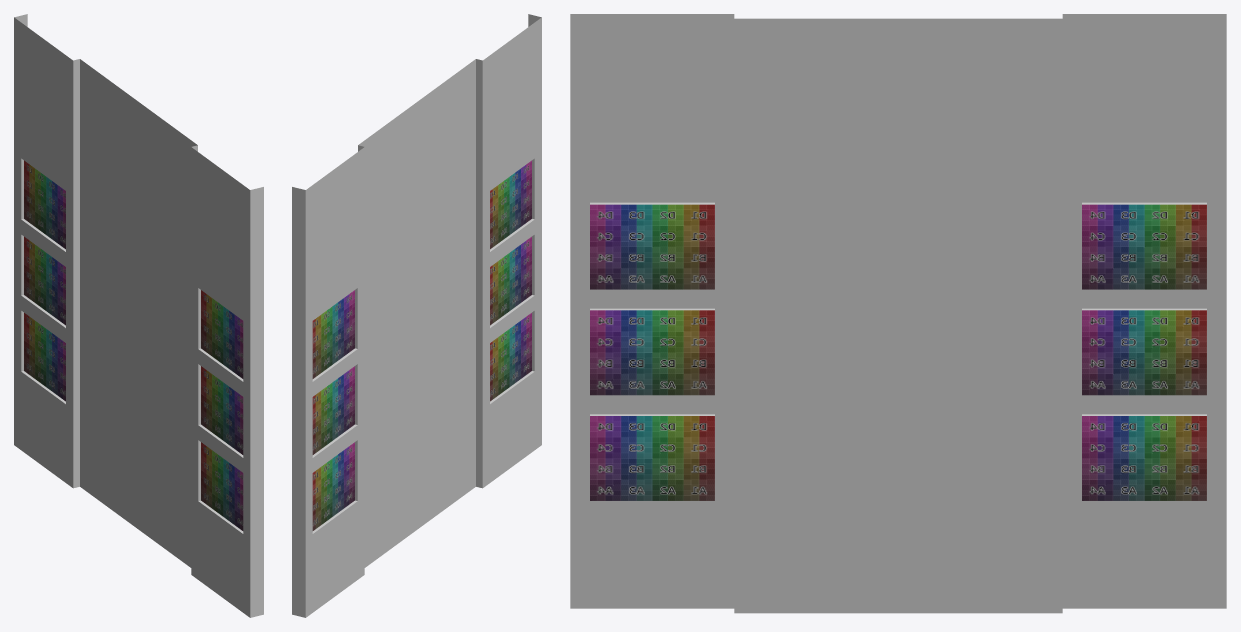
File: GalleryBoard.fbx
3 views of the same model, side by side, from view 1: azimuth 30°, elevation 25°; view 2: azimuth 150°, elevation 25°; view 3: azimuth 270°, elevation 25° (orthographic). The views are drawn at different scales.
Visible parts, largest first — view 1: GalleryEndBoard, photoBoard.reflection, photoBoard.mblur, photoBoard.refraction, photoBoard.limits, photoBoard.ambientocc, photoBoard.globalillum; view 2: GalleryEndBoard, photoBoard.ambientocc, photoBoard.globalillum, photoBoard.limits, photoBoard.refraction, photoBoard.reflection, photoBoard.mblur; view 3: GalleryEndBoard, photoBoard.refraction, photoBoard.reflection, photoBoard.limits, photoBoard.ambientocc, photoBoard.mblur, photoBoard.globalillum.
Part boxes in pixels (x1=…): GalleryEndBoard: x1=14, y1=14, x2=263, y2=617; photoBoard.reflection: x1=201, y1=366, x2=243, y2=454; photoBoard.mblur: x1=201, y1=442, x2=243, y2=530; photoBoard.refraction: x1=201, y1=290, x2=243, y2=378; photoBoard.limits: x1=24, y1=160, x2=65, y2=249; photoBoard.ambientocc: x1=24, y1=236, x2=65, y2=325; photoBoard.globalillum: x1=24, y1=313, x2=65, y2=401; GalleryEndBoard: x1=292, y1=14, x2=541, y2=617; photoBoard.ambientocc: x1=312, y1=366, x2=354, y2=454; photoBoard.globalillum: x1=312, y1=442, x2=354, y2=530; photoBoard.limits: x1=312, y1=290, x2=354, y2=378; photoBoard.refraction: x1=490, y1=160, x2=531, y2=249; photoBoard.reflection: x1=490, y1=236, x2=531, y2=325; photoBoard.mblur: x1=490, y1=313, x2=531, y2=401; GalleryEndBoard: x1=570, y1=14, x2=1226, y2=613; photoBoard.refraction: x1=590, y1=204, x2=714, y2=289; photoBoard.reflection: x1=590, y1=310, x2=714, y2=395; photoBoard.limits: x1=1082, y1=204, x2=1206, y2=289; photoBoard.ambientocc: x1=1082, y1=310, x2=1206, y2=395; photoBoard.mblur: x1=590, y1=416, x2=714, y2=500; photoBoard.globalillum: x1=1082, y1=416, x2=1206, y2=500.
Bounding box in the file's own units: 10 × 300 × 300.
